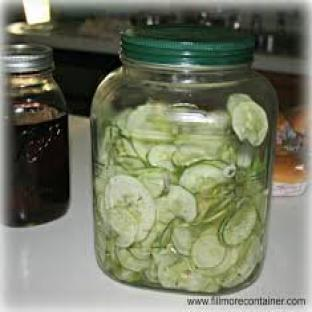Cucumber: (105, 176, 155, 240), (221, 236, 262, 287), (228, 95, 268, 146), (127, 102, 172, 140), (221, 201, 257, 245), (180, 162, 229, 193), (105, 208, 138, 246), (192, 234, 225, 268), (166, 186, 196, 222), (202, 249, 238, 277), (158, 257, 189, 288), (139, 169, 169, 197), (173, 146, 213, 166), (148, 144, 176, 171), (116, 249, 150, 271), (172, 225, 195, 255), (156, 196, 175, 223), (113, 109, 132, 136), (132, 140, 154, 162), (115, 138, 138, 158), (117, 157, 144, 171), (238, 143, 253, 168), (144, 262, 159, 284)
